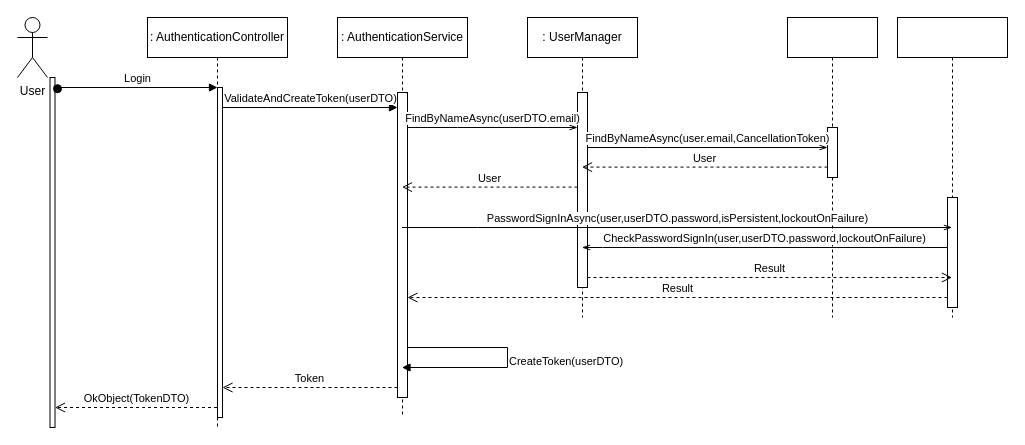
Image size: 1025x445. Some labels were removed from this diagram. Here are the shapes that lost their labels. From the top down, the centre of each, then its label:
At point 832,167: "<<entity store>> : Store".
At point 952,167: ": SignInManager".
